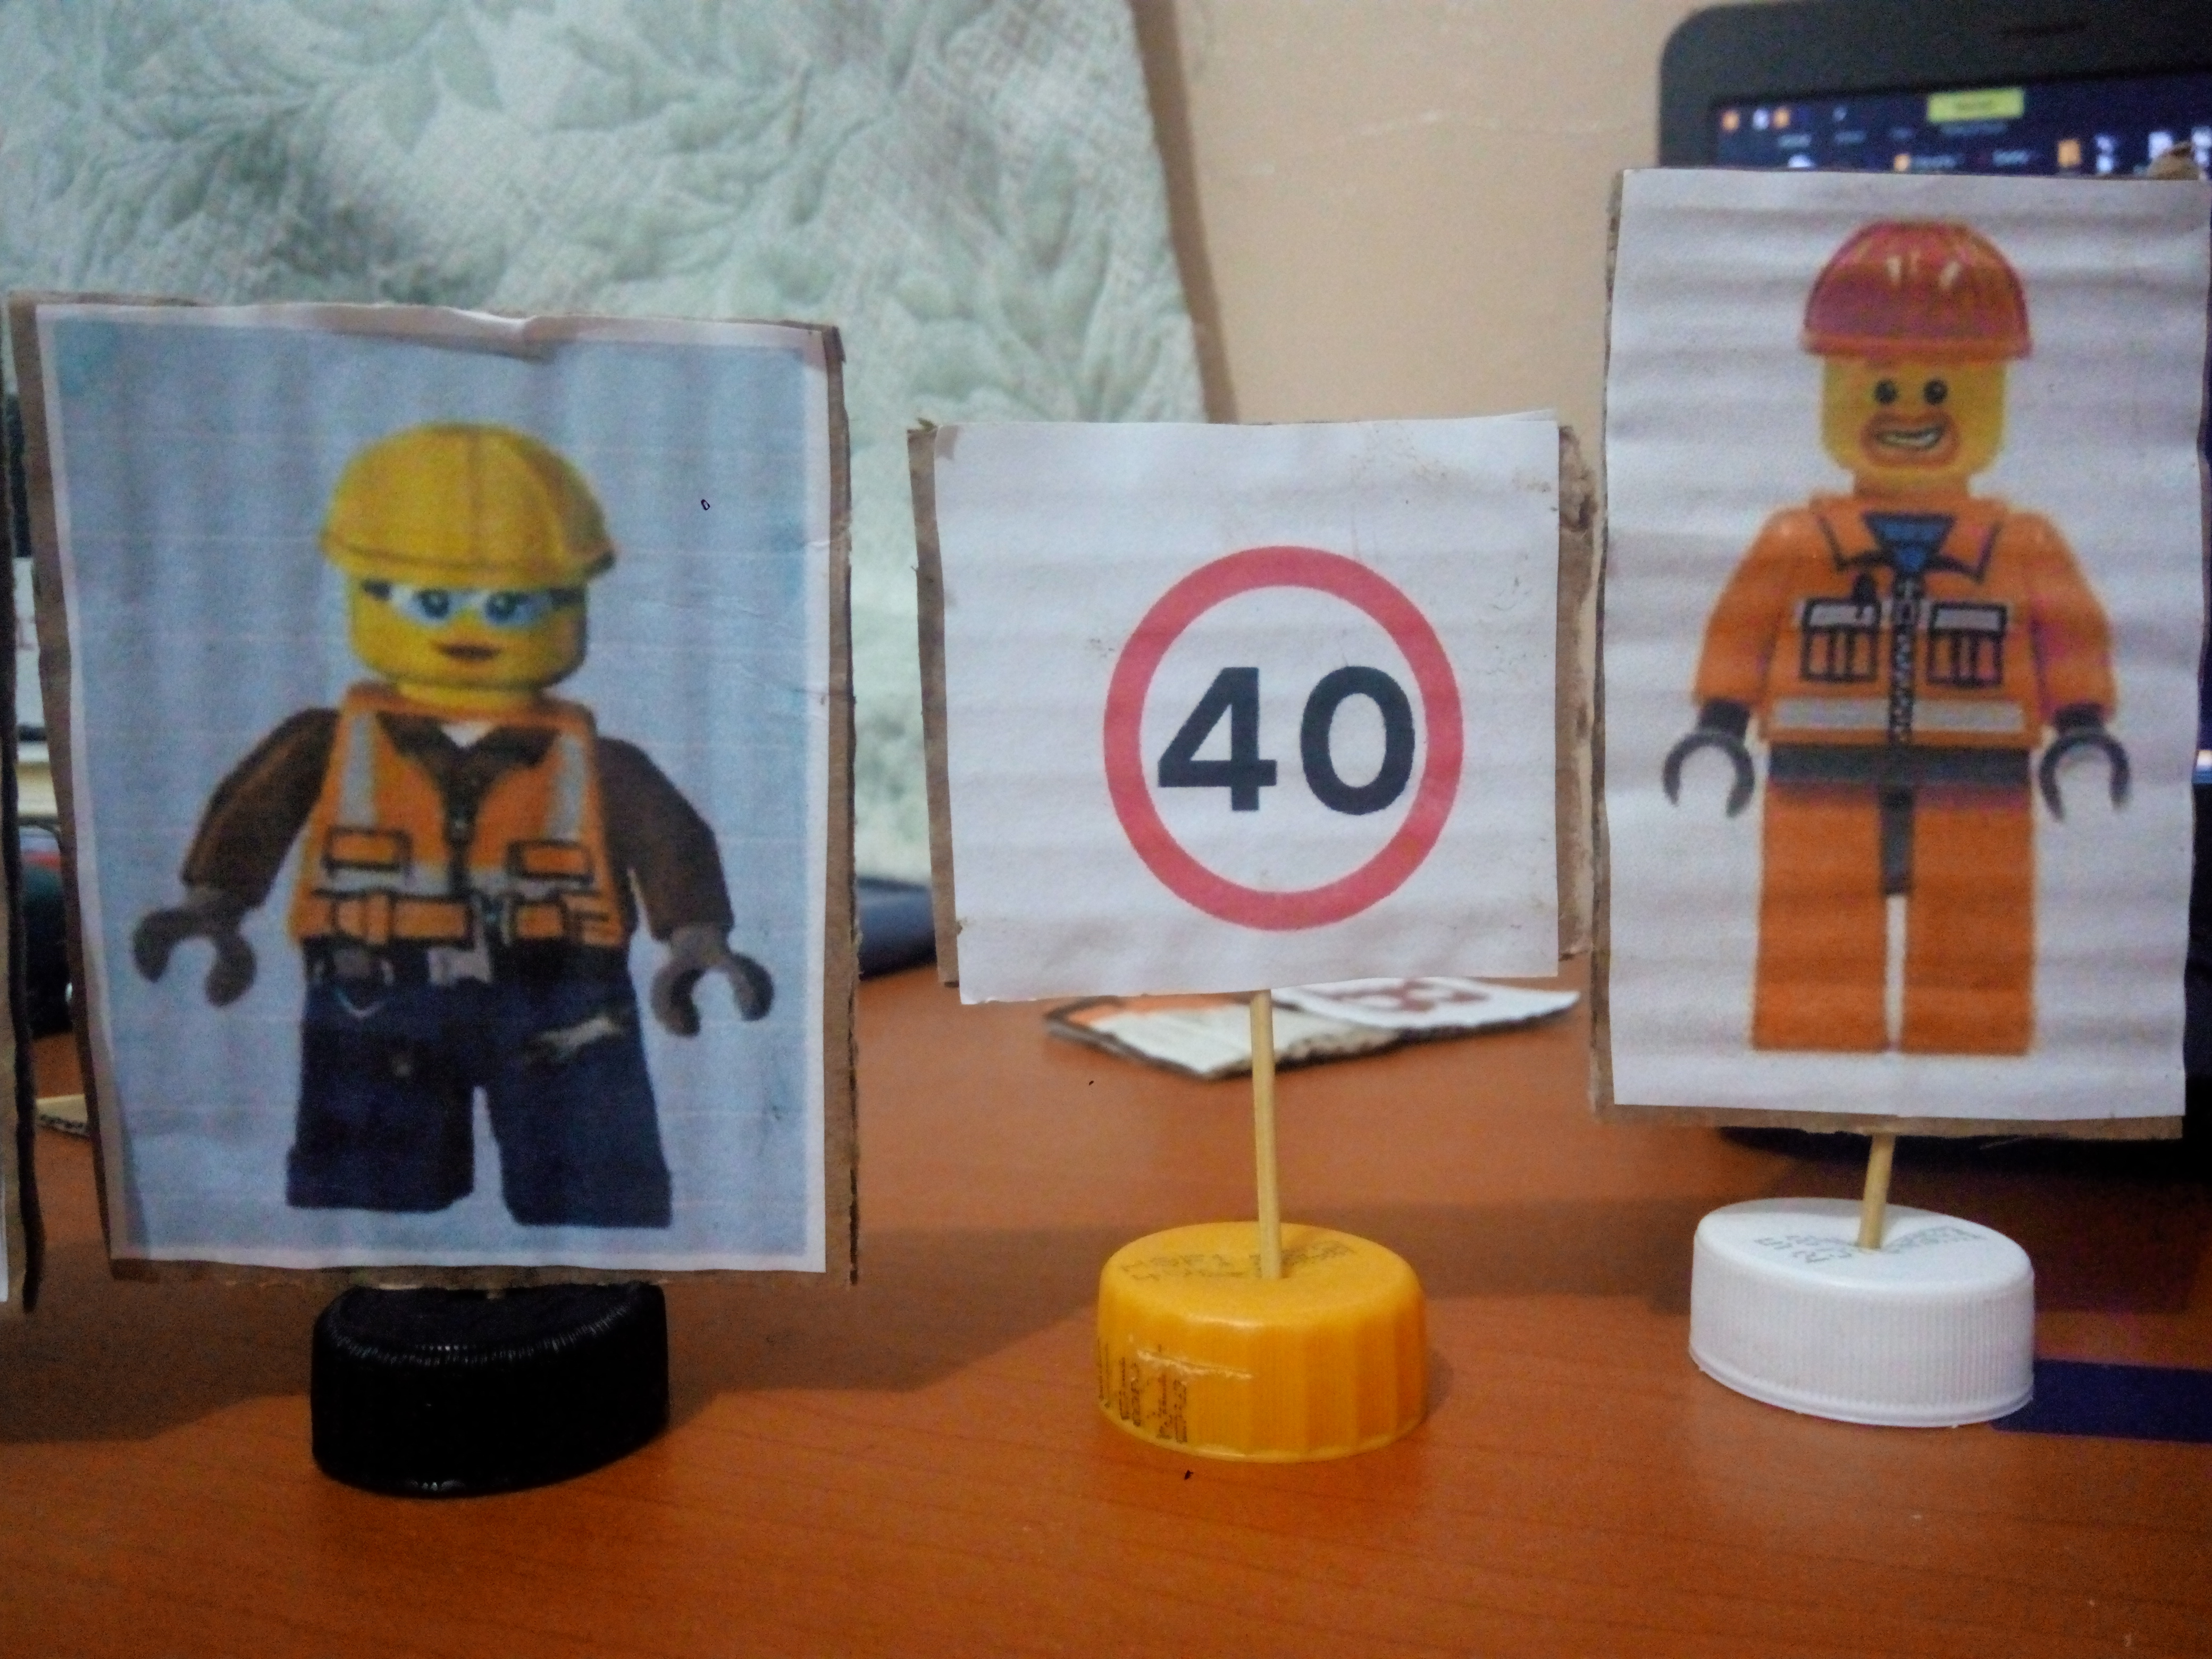40kph: (1051, 497, 1489, 951)
pedestrian: (112, 371, 800, 1257), (1649, 198, 2183, 1085)
